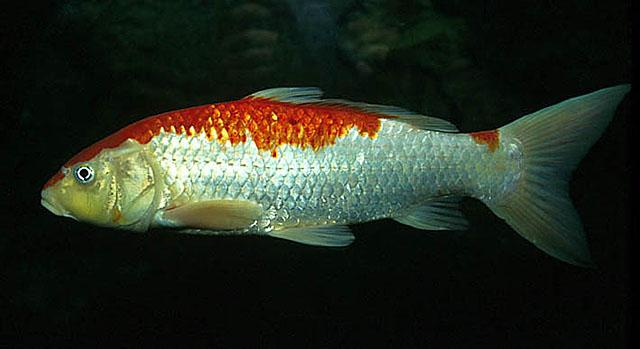Mulut: (27, 169, 73, 227)
Sirip Dada: (152, 195, 266, 235), (269, 215, 361, 259)
Sirip Ekor: (486, 71, 634, 280)
Sirip Punggung: (233, 75, 462, 141)
